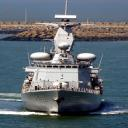Fragata: (21, 10, 106, 116)
